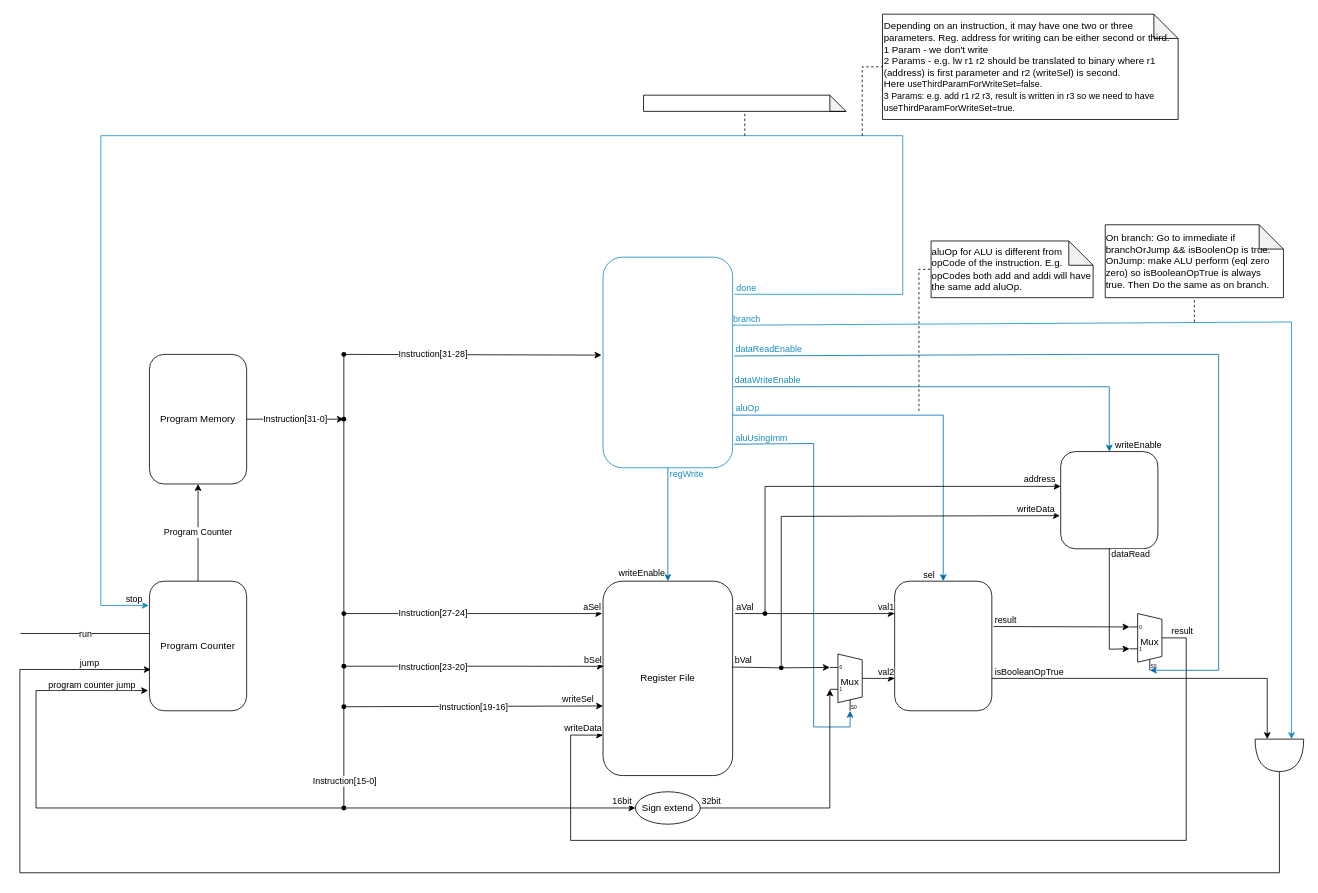
The diagram is 1318 pixels wide and 893 high, and some of its shapes have lost their labels. Here are the shapes that lost their labels. From the top down, the box of each, then its label:
(643, 94, 846, 111): when (opCode=END) then ( done := true)
(602, 256, 733, 468): Control Unit
(1060, 451, 1158, 549): Data Memory
(894, 580, 992, 711): ALU
